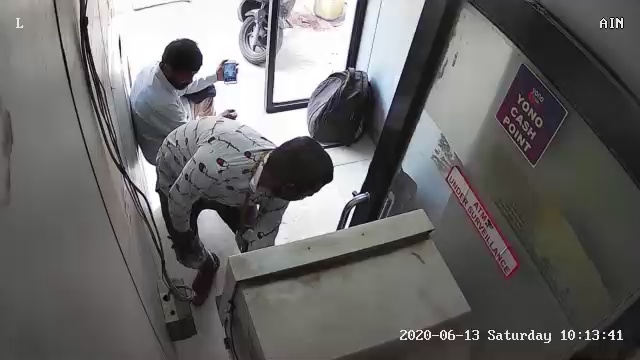open: (235, 3, 375, 125)
